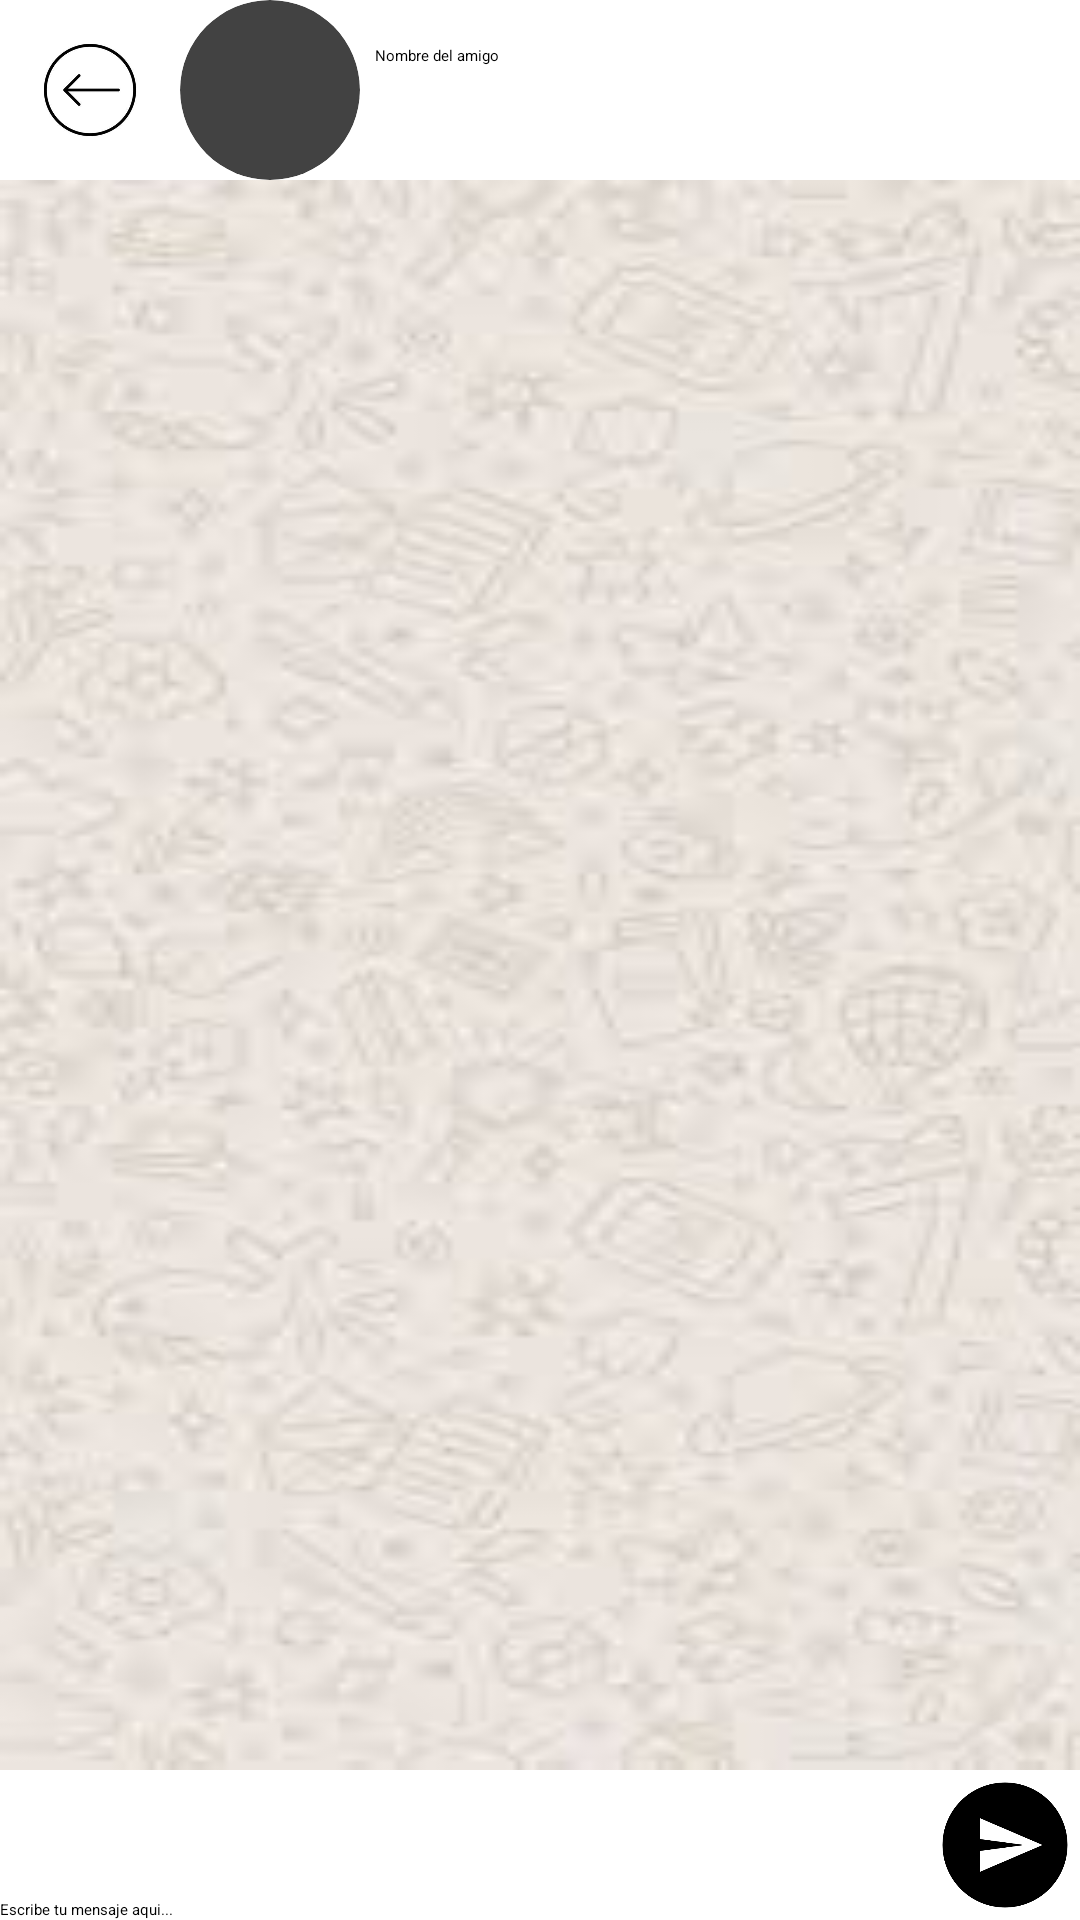

Screen size 1080x1920. Icon name, then its box in pixels as (x1, y1, x2, y2):
atras: (44, 44, 136, 136)
enviar: (942, 1782, 1068, 1908)
